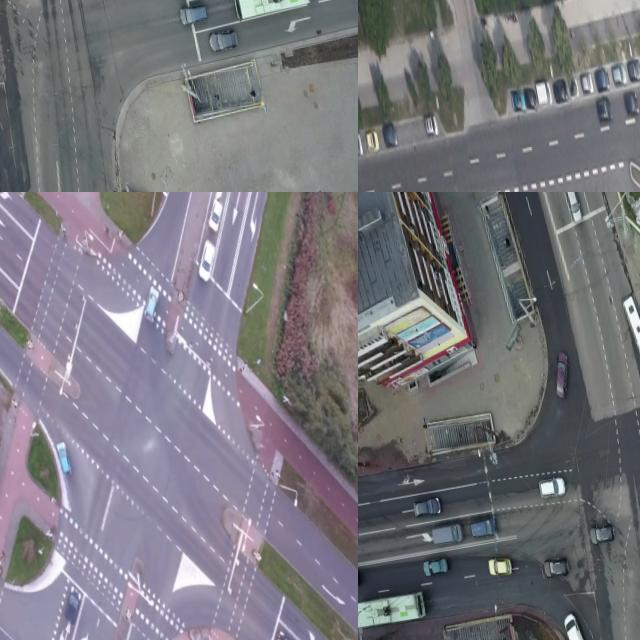UAI: (548, 349, 576, 400), (192, 237, 221, 284), (60, 584, 87, 628), (139, 284, 164, 324), (204, 196, 228, 233), (537, 475, 567, 500), (542, 555, 571, 580), (470, 515, 499, 539), (412, 496, 442, 519), (588, 522, 616, 546), (421, 555, 449, 579), (54, 439, 72, 476), (487, 554, 514, 577), (563, 192, 583, 223), (595, 95, 614, 123), (535, 80, 553, 107), (381, 120, 398, 147), (594, 65, 611, 91), (623, 90, 639, 116), (552, 77, 568, 103), (612, 62, 628, 86), (523, 85, 538, 110), (424, 113, 439, 137), (275, 626, 300, 640), (510, 88, 525, 111), (366, 128, 380, 152), (580, 71, 594, 94), (627, 58, 640, 82), (568, 76, 580, 98), (358, 129, 363, 157)
car: (358, 589, 427, 630), (232, 0, 312, 22), (206, 27, 240, 55), (178, 1, 209, 26)
harvester: (620, 293, 640, 364), (562, 608, 594, 640), (430, 520, 465, 547)
